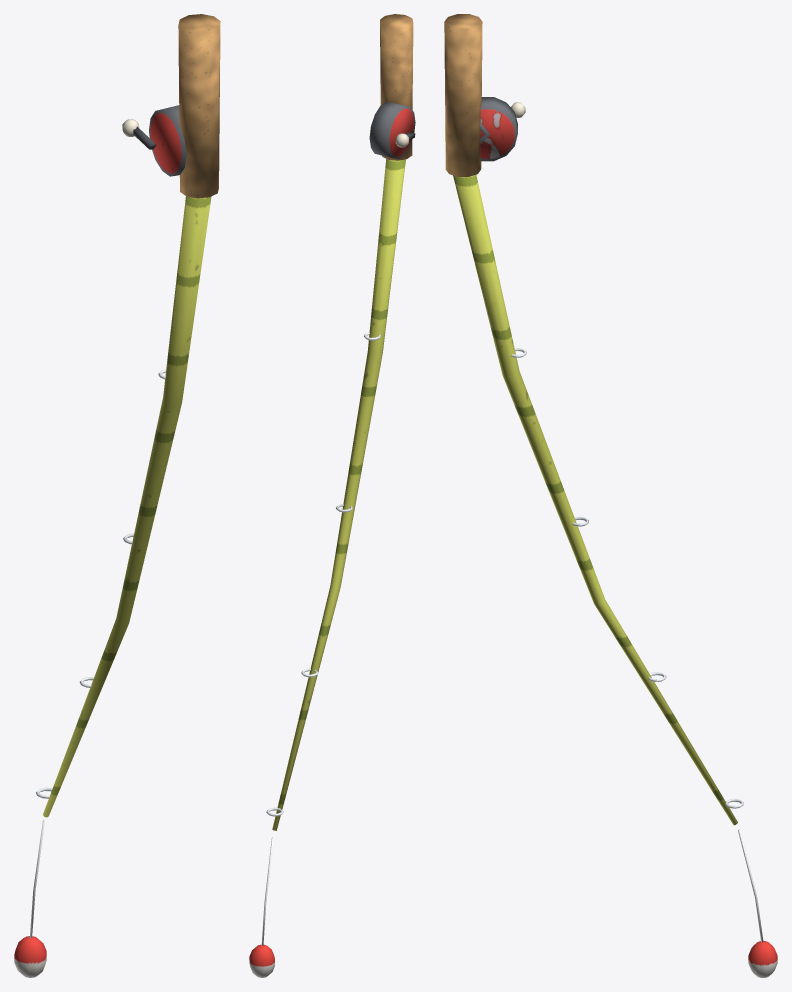
File: tool_fishing_rod.glb
3 renders of one model, left to right at view 1: azimuth 30°, elevation 25°; view 2: azimuth 150°, elevation 25°; view 3: azimuth 270°, elevation 25°, orthographic. The views are drawn at different scales.
Visible parts, largest first — view 1: Tool; view 2: Tool; view 3: Tool.
Boxes of the visible parts, left/top/right/bottom form: Tool: left=14, top=14, right=220, bottom=977; Tool: left=249, top=14, right=415, bottom=977; Tool: left=444, top=14, right=777, bottom=977.
Bounding box in the file's own units: 0.095 × 1.55 × 0.4894.
Materials: 1 (1 with a texture image).
